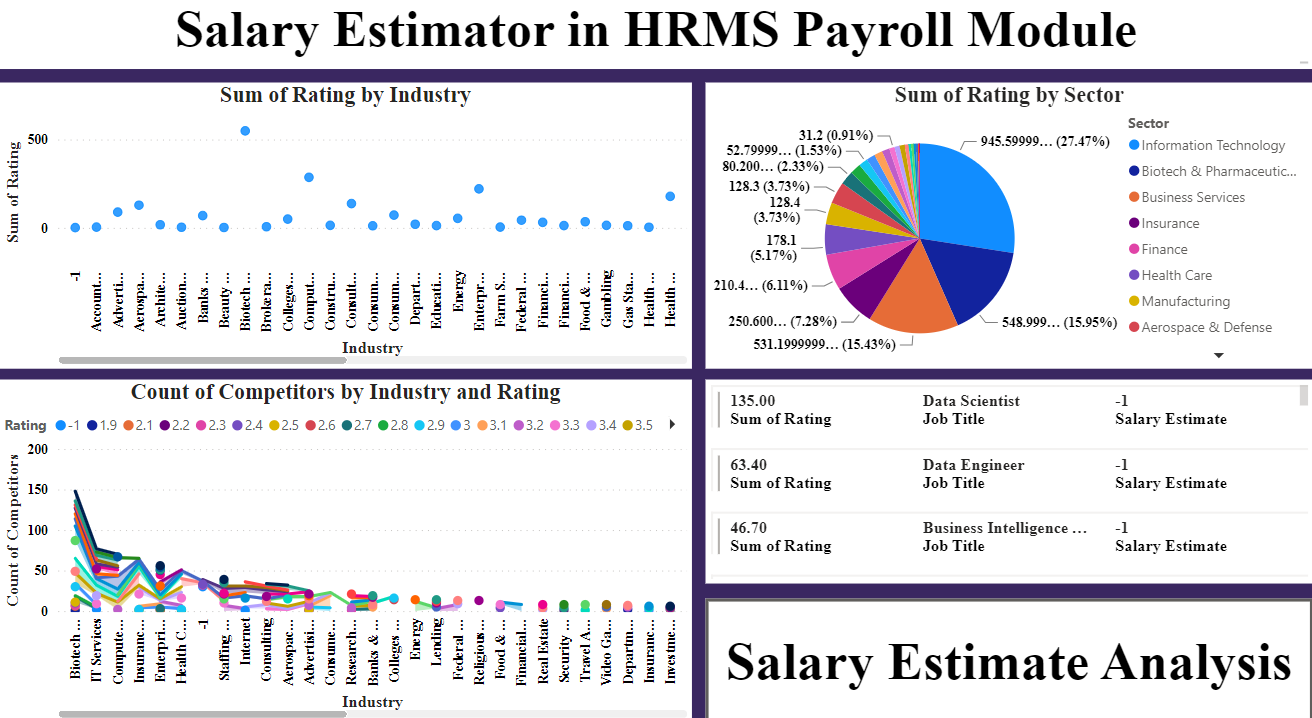

The dashboard page shown, as its layout file describes it:
{"tool":"powerbi","page":{"name":"Rating Analysis","canvas":[1280,720],"ordinal":0},"visuals":[{"type":"scatterChart","fields":{"Y":["Sum(glassdoor_jobs.Rating)"],"X":["glassdoor_jobs.Industry"]},"box":[0,94.9,674.7,278.9],"z":0},{"type":"stackedAreaChart","fields":{"Category":["glassdoor_jobs.Industry"],"Y":["CountNonNull(glassdoor_jobs.Competitors)"],"Series":["glassdoor_jobs.Rating"]},"box":[0,384.1,674.7,334.4],"z":1000},{"type":"multiRowCard","fields":{"Values":["Sum(glassdoor_jobs.Rating)","glassdoor_jobs.Job Title","glassdoor_jobs.Salary Estimate"]},"box":[687.9,384.1,591.5,198.6],"z":2000},{"type":"textbox","title":"Salary Estimator in HRMS Payroll Module ","box":[0,13.1,1279.4,68.6],"z":3000},{"type":"pieChart","fields":{"Category":["glassdoor_jobs.Sector"],"Y":["Sum(glassdoor_jobs.Rating)"]},"box":[687.9,94.9,591.5,278.9],"z":4000},{"type":"actionButton","box":[687.9,597.3,591.5,121.2],"z":5000}]}

Visuals, with their boxes in screenshot pixels (x1, y1, x2, y2), scaled from the page's 1280x720 canvas onto the 1312x718 screenshot:
scatterChart - Sum(glassdoor_jobs.Rating) x glassdoor_jobs.Industry: <region>0, 95, 692, 373</region>
stackedAreaChart - glassdoor_jobs.Industry x CountNonNull(glassdoor_jobs.Competitors): <region>0, 383, 692, 717</region>
multiRowCard - Sum(glassdoor_jobs.Rating) x glassdoor_jobs.Job Title: <region>705, 383, 1311, 581</region>
"Salary Estimator in HRMS Payroll Module " textbox: <region>0, 13, 1311, 81</region>
pieChart - glassdoor_jobs.Sector x Sum(glassdoor_jobs.Rating): <region>705, 95, 1311, 373</region>
actionButton: <region>705, 596, 1311, 717</region>
